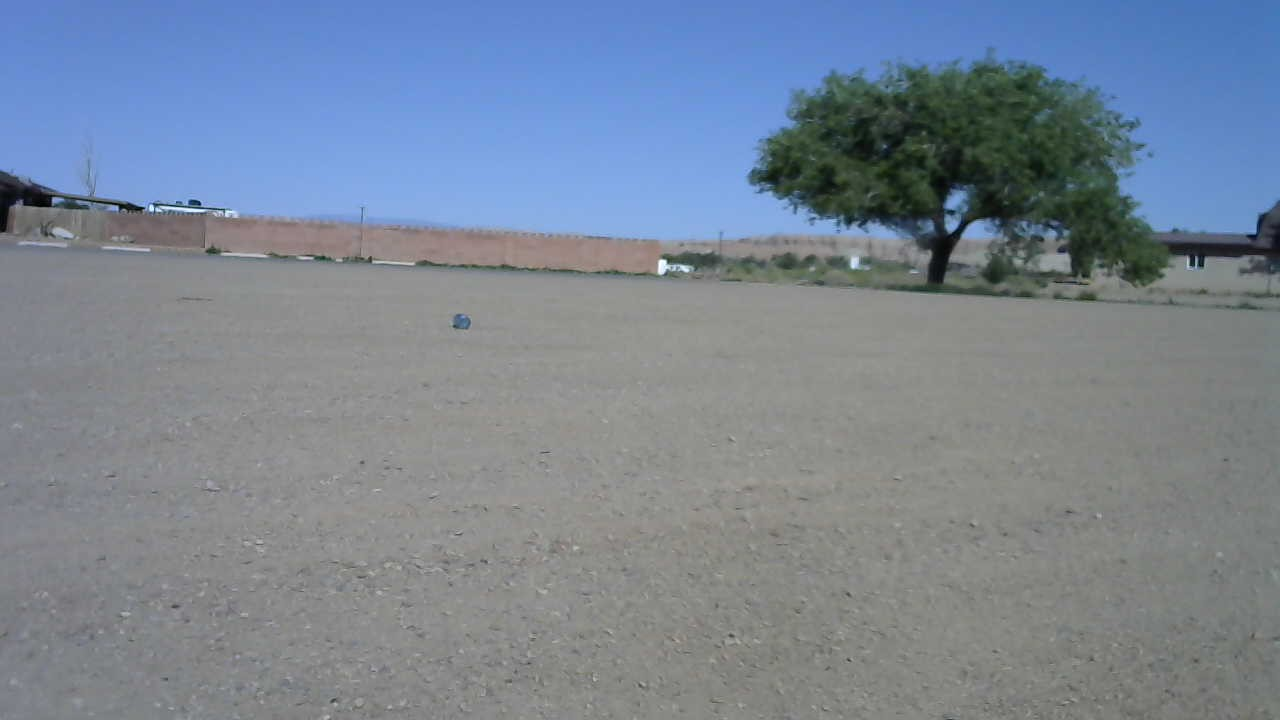bottle: (448, 305, 472, 331)
